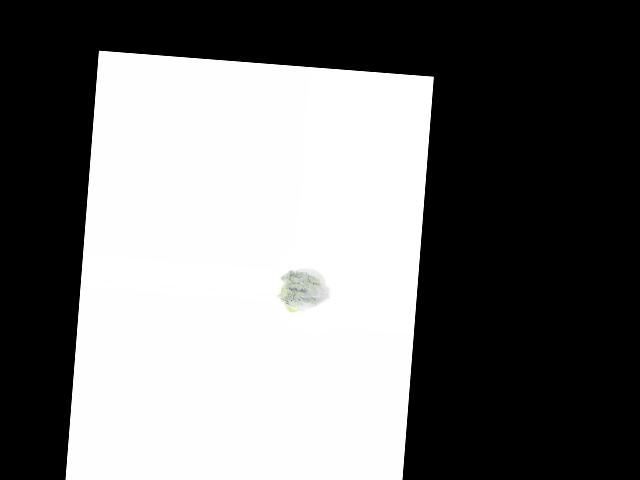lettuce: (276, 264, 331, 317)
